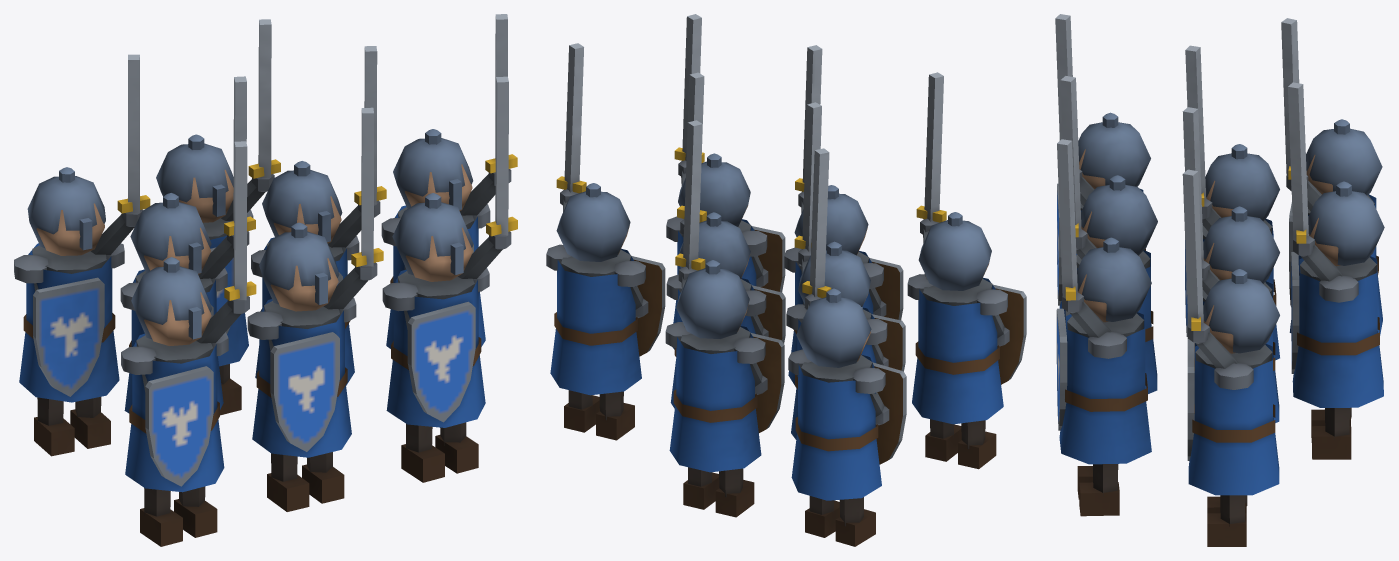
The model's file is squad_dl3_blue.glb.
The picture shows the model from 3 angles, left to right: view 1: azimuth 30°, elevation 25°; view 2: azimuth 150°, elevation 25°; view 3: azimuth 270°, elevation 25°; orthographic projection. The views are drawn at different scales.
Visible parts, largest first — view 1: squad_dl3_blue; view 2: squad_dl3_blue; view 3: squad_dl3_blue.
Part boxes in pixels (x1,y1,x2,y2): squad_dl3_blue: (14,14,517,546); squad_dl3_blue: (546,14,1026,546); squad_dl3_blue: (1055,14,1384,546).
Size of the model in its own units: 0.6707 by 0.5703 by 0.4461.
1 material, 1 textured.
